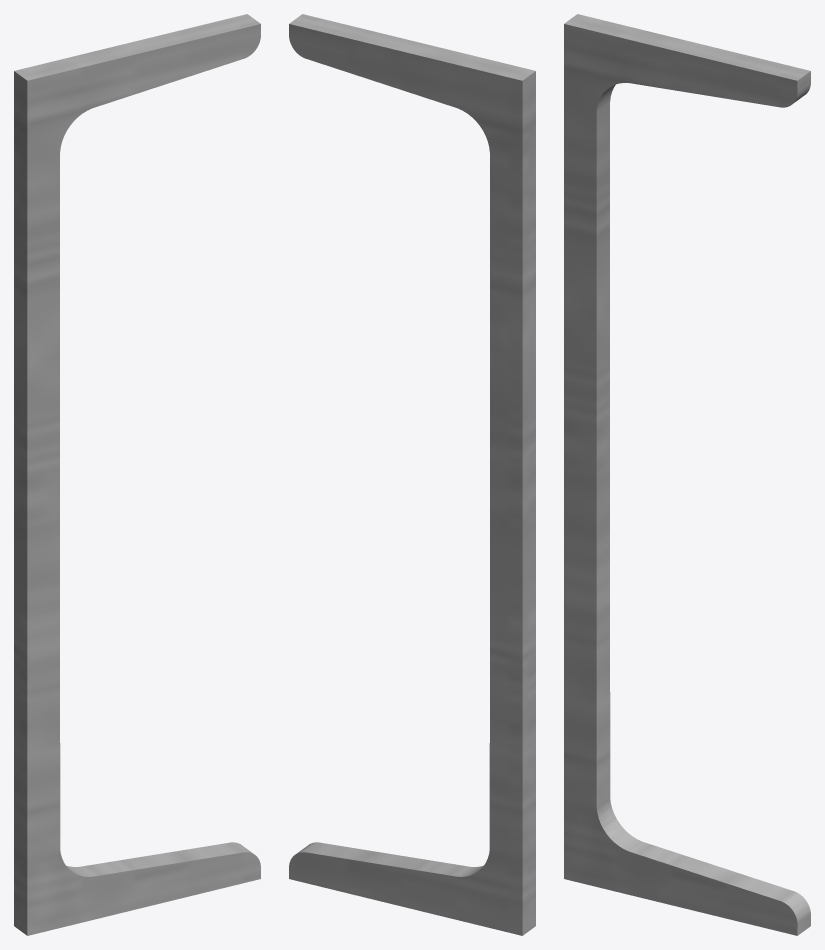
File: UPN350.glb
3 renders of one model, left to right at view 1: azimuth 30°, elevation 25°; view 2: azimuth 150°, elevation 25°; view 3: azimuth 330°, elevation 25°, orthographic.
Size of the model in its own units: 10 by 35 by 1.
Materials: 1 (1 with a texture image).
